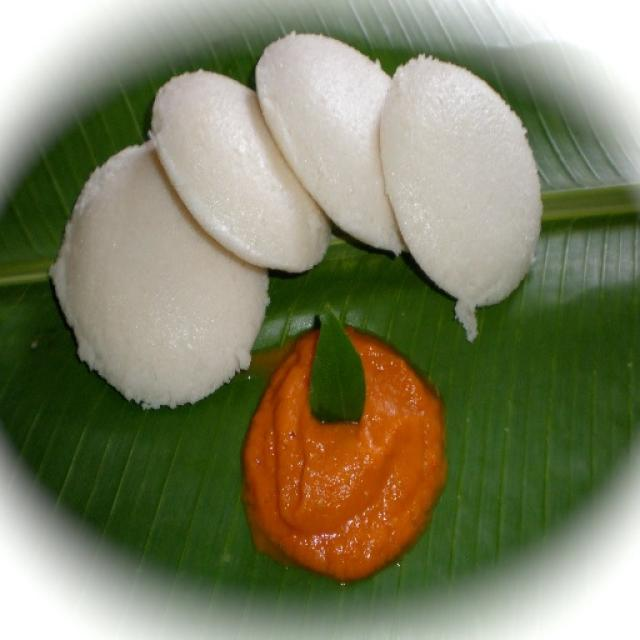IDLI: (50, 32, 541, 406)
RED CHUTNEY: (244, 328, 445, 581)
